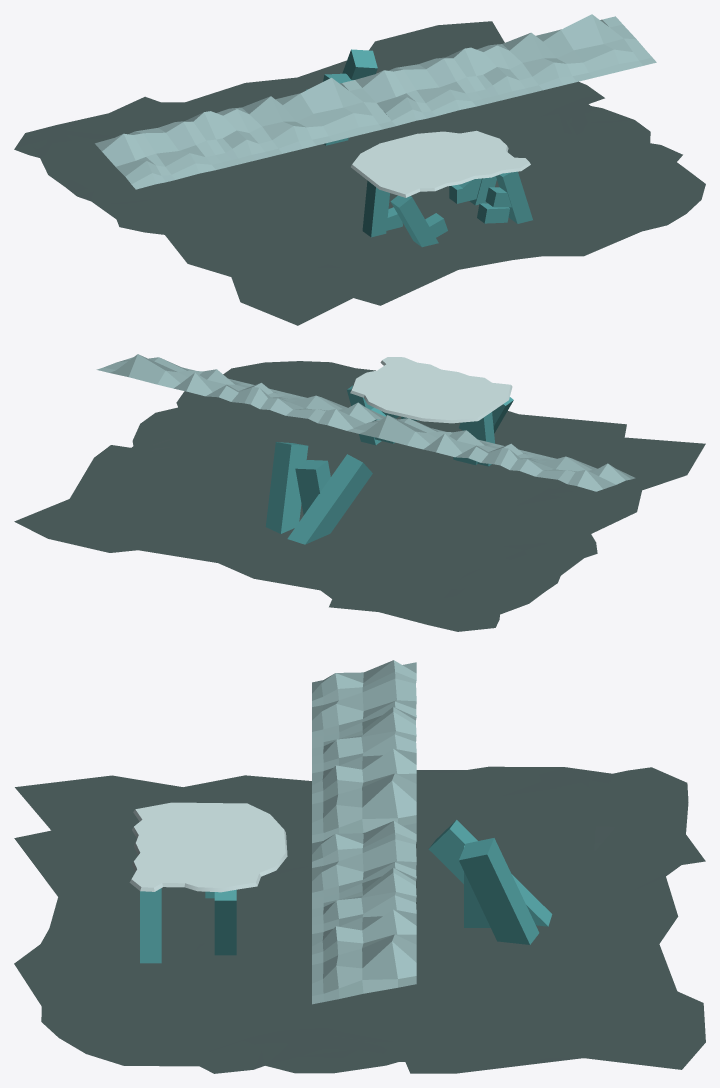
Rendered from Environment block out1 (1).fbx.
3 renders of one model, top to bottom at view 1: azimuth 30°, elevation 25°; view 2: azimuth 150°, elevation 25°; view 3: azimuth 270°, elevation 25°, orthographic. The views are drawn at different scales.
Parts seen in each view (by area): view 1: pPlane1, pPlane4, polySurface1, pCube17; view 2: pPlane1, pPlane4, pCube17, polySurface1; view 3: pPlane1, pPlane4, polySurface1, pCube17.
Boxes of the visible parts, x1=… form: pPlane1: x1=14, y1=21, x2=705, y2=325; pPlane4: x1=95, y1=14, x2=656, y2=189; polySurface1: x1=351, y1=130, x2=530, y2=197; pCube17: x1=306, y1=49, x2=532, y2=247; pPlane1: x1=14, y1=361, x2=705, y2=631; pPlane4: x1=96, y1=354, x2=635, y2=491; pCube17: x1=265, y1=385, x2=513, y2=544; polySurface1: x1=350, y1=357, x2=512, y2=423; pPlane1: x1=14, y1=766, x2=705, y2=1073; pPlane4: x1=312, y1=660, x2=416, y2=1004; polySurface1: x1=129, y1=802, x2=287, y2=892; pCube17: x1=140, y1=820, x2=552, y2=963.
Size of the model in its own units: 6235 by 1644 by 5664.
